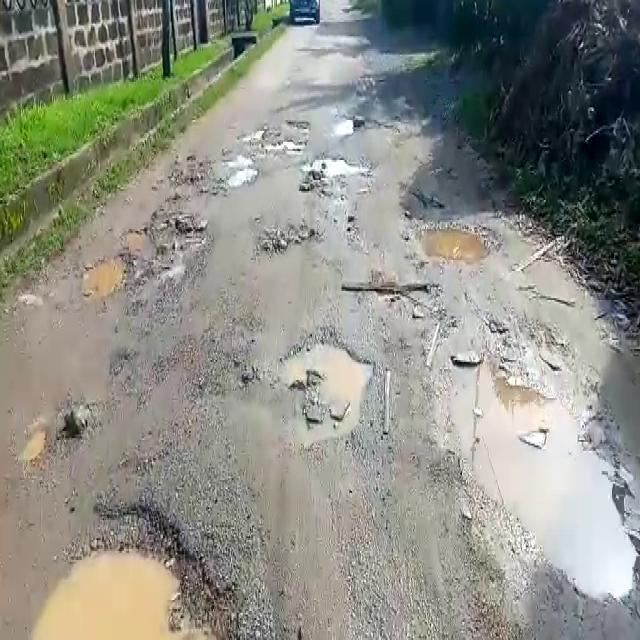Pothole: (442, 370, 640, 610), (12, 494, 252, 640), (282, 336, 377, 441), (416, 216, 498, 268), (124, 215, 206, 262), (341, 277, 436, 304), (83, 252, 132, 304), (257, 220, 319, 254), (302, 151, 368, 179), (218, 155, 260, 187), (450, 351, 483, 368)
